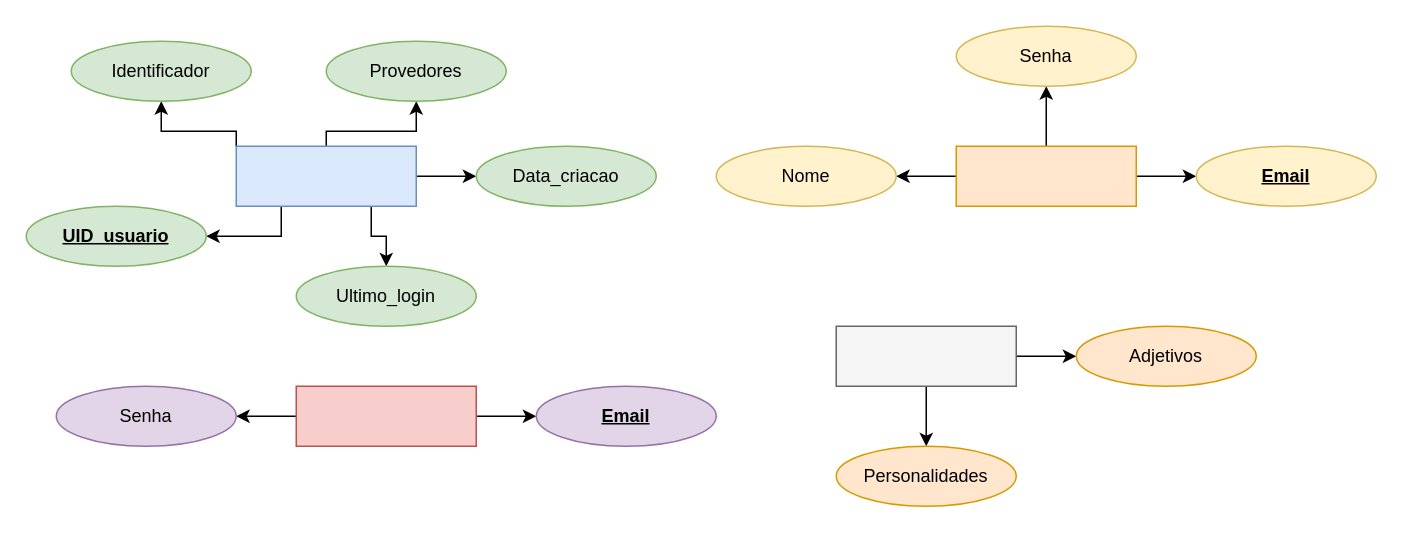
The diagram is 1403 pixels wide and 533 high, and some of its shapes have lost their labels. The shapes that lost their labels are listed below. From the top down, each one's centre as x and y in pixels, then its label:
At (325,175): "Usuario".
At (1045,175): "Cadastro".
At (925,355): "Teste".
At (385,415): "Login".
